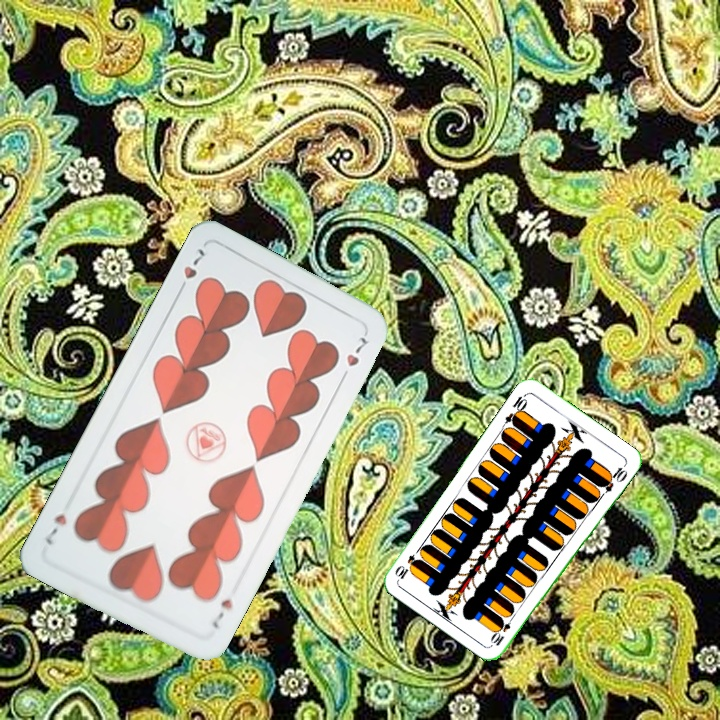E10: (488, 611, 517, 649), (501, 390, 530, 428)
H7: (173, 244, 208, 297), (208, 595, 236, 631)
